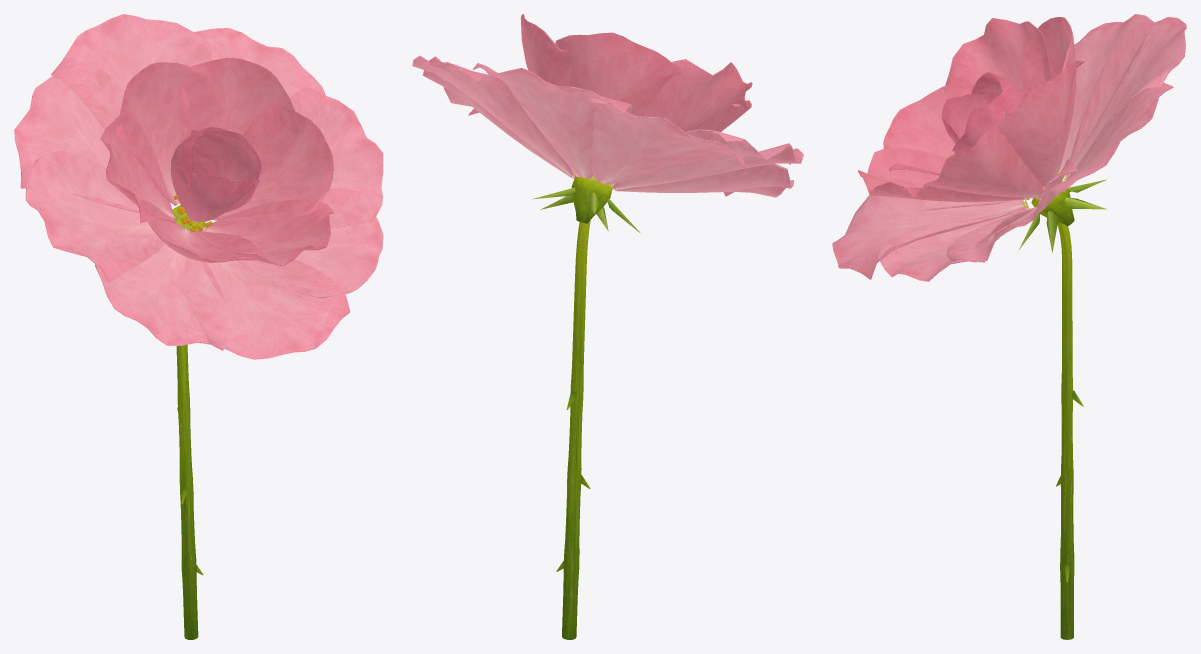
File: rose_17.glb
3 renders of one model, left to right at view 1: azimuth 30°, elevation 25°; view 2: azimuth 150°, elevation 25°; view 3: azimuth 270°, elevation 25°, orthographic. The views are drawn at different scales.
Parts seen in each view (by area): view 1: Petal_4_outer_01, Petal_2_outer_02, Petal_0_outer_01, Petal_12_middle_01, Petal_3_outer_04, Petal_1_outer_03, Petal_10_middle_02, Petal_6_outer_02, Petal_11_middle_04, Petal_5_outer_04, Petal_9_middle_03, Stem_Skinned (+6 smaller); view 2: Petal_1_outer_03, Petal_12_middle_01, Petal_0_outer_01, Stem_Skinned, Petal_13_middle_03, Petal_7_outer_03, Petal_2_outer_02, Petal_3_outer_04, Petal_11_middle_04, Hypanthium_and_five_sepals, Petal_6_outer_02, Petal_8_middle_01; view 3: Petal_0_outer_01, Petal_4_outer_01, Stem_Skinned, Petal_11_middle_04, Petal_10_middle_02, Petal_13_middle_03, Petal_9_middle_03, Petal_5_outer_04, Petal_1_outer_03, Petal_8_middle_01, Petal_12_middle_01, Petal_7_outer_03 (+5 smaller).
Boxes of the visible parts, box(x1,y1,x2,y2) form: Petal_4_outer_01: box(184, 257, 350, 359); Petal_2_outer_02: box(25, 150, 164, 282); Petal_0_outer_01: box(51, 14, 211, 129); Petal_12_middle_01: box(114, 62, 215, 205); Petal_3_outer_04: box(95, 233, 225, 350); Petal_1_outer_03: box(14, 64, 139, 212); Petal_10_middle_02: box(213, 101, 333, 222); Petal_6_outer_02: box(212, 87, 383, 228); Petal_11_middle_04: box(180, 57, 299, 175); Petal_5_outer_04: box(237, 188, 383, 298); Petal_9_middle_03: box(198, 199, 333, 266); Stem_Skinned: box(176, 216, 203, 639); Petal_1_outer_03: box(589, 98, 744, 184); Petal_12_middle_01: box(555, 32, 682, 116); Petal_0_outer_01: box(472, 63, 632, 179); Stem_Skinned: box(556, 220, 590, 639); Petal_13_middle_03: box(643, 59, 752, 131); Petal_7_outer_03: box(412, 55, 573, 175); Petal_2_outer_02: box(613, 129, 803, 189); Petal_3_outer_04: box(614, 163, 793, 197); Petal_11_middle_04: box(520, 14, 574, 86); Hypanthium_and_five_sepals: box(532, 177, 640, 233); Petal_6_outer_02: box(422, 56, 574, 178); Petal_8_middle_01: box(699, 100, 751, 131); Petal_0_outer_01: box(1065, 17, 1186, 179); Petal_4_outer_01: box(832, 195, 1027, 279); Stem_Skinned: box(1056, 222, 1083, 639); Petal_11_middle_04: box(995, 60, 1084, 186); Petal_10_middle_02: box(923, 123, 1043, 198); Petal_13_middle_03: box(943, 18, 1051, 98); Petal_9_middle_03: box(858, 147, 1029, 202); Petal_5_outer_04: box(878, 208, 1033, 281); Petal_1_outer_03: box(1058, 14, 1154, 176); Petal_8_middle_01: box(883, 81, 974, 175); Petal_12_middle_01: box(1021, 17, 1076, 174); Petal_7_outer_03: box(1038, 83, 1173, 199).
Bounding box in the file's own units: 0.1991 × 0.3284 × 0.1763.
7 materials, 7 textured.
